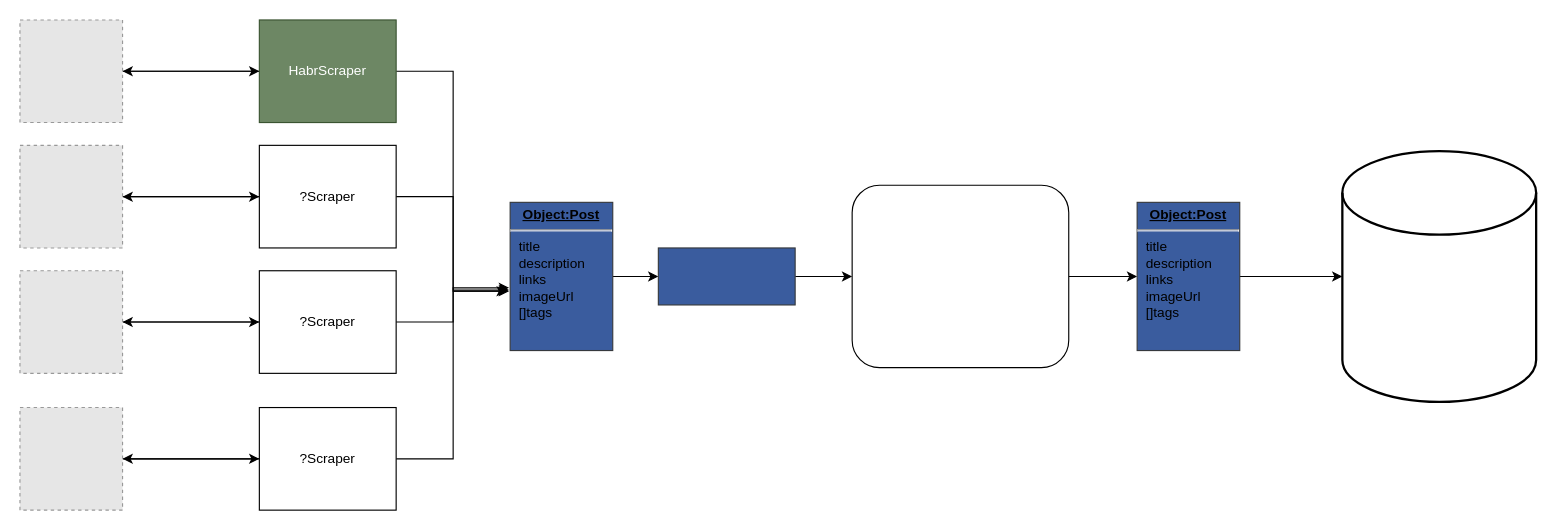
The diagram is 1557 pixels wide and 530 high, and some of its shapes have lost their labels. Grey dashed boxes stand in for pictures. Each missing label, with the box of its shape:
array of *Post Post 1 , Post 2, ......: (657, 247, 795, 305)
Client: (851, 184, 1069, 368)
DataBase: (1341, 149, 1537, 402)
